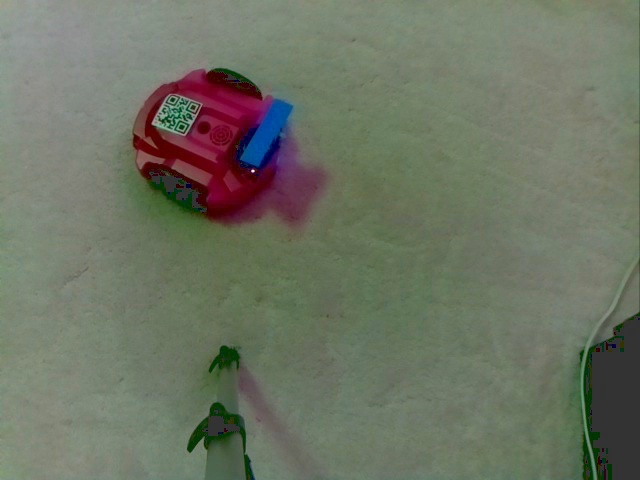board: (235, 86, 293, 176)
chassis: (128, 64, 295, 217)
